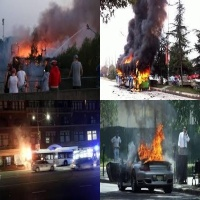fire: (136, 120, 167, 163), (116, 53, 150, 90), (12, 43, 43, 58), (20, 147, 32, 167)
